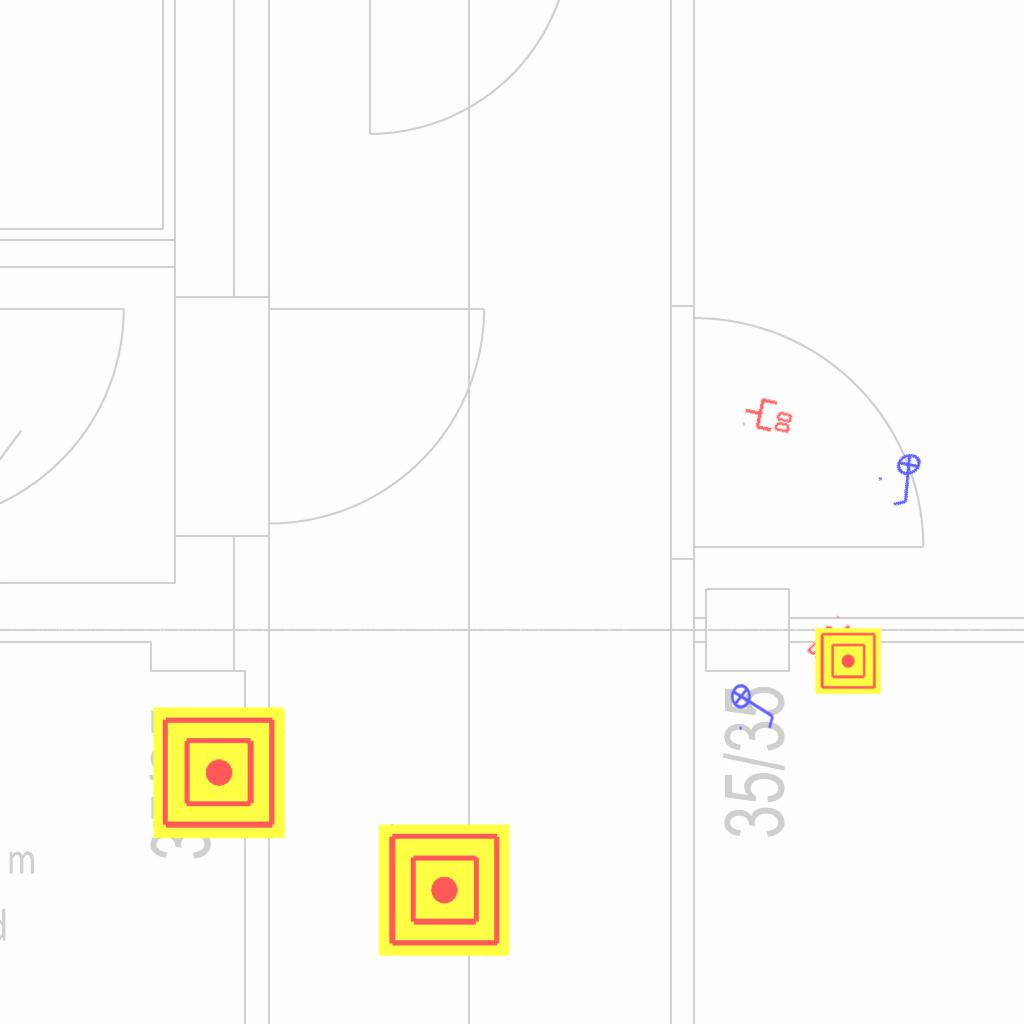Ausschalter_beleuchtet: (871, 445, 943, 515), (730, 677, 778, 733)
Datenanschluss_zweifach: (803, 613, 863, 674), (740, 392, 798, 437)
NAM-Nichtautomatischer_Melder: (153, 707, 285, 839), (378, 824, 510, 956), (815, 628, 881, 694)
